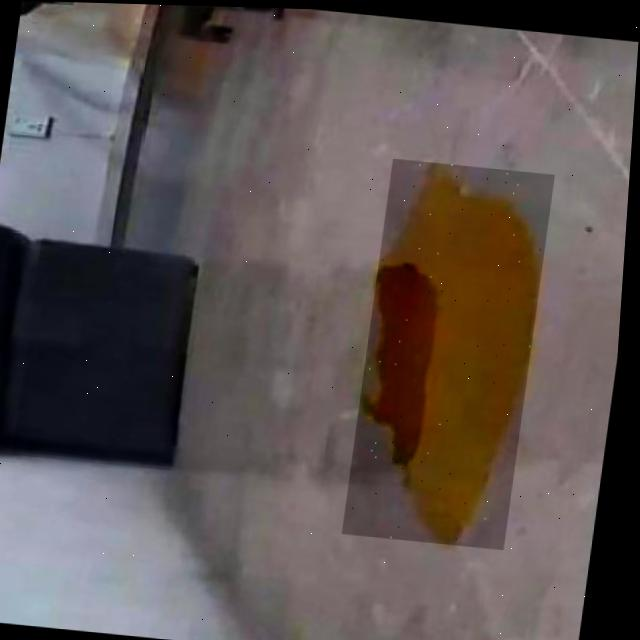spillage: (373, 160, 544, 540)
